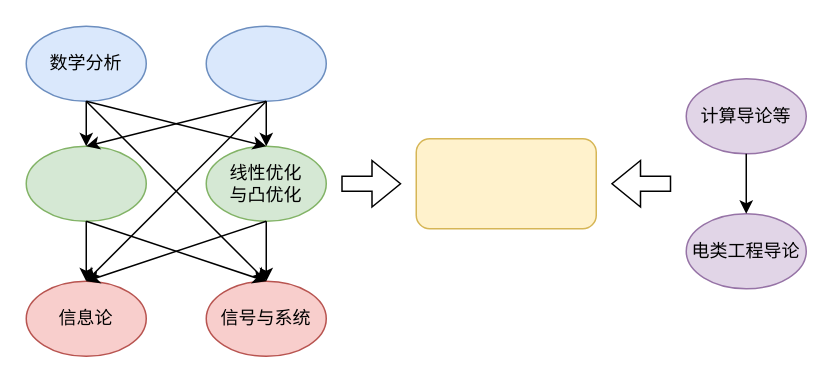
The diagram is 833 pixels wide and 383 high, and some of its shapes have lost their labels. The centre of each missing label's shape, as x and y in pixels:
"机器学习 深度学习" goes at point (505, 183).
"概率论与 数理统计" goes at point (85, 183).
"线性代数" goes at point (265, 63).
